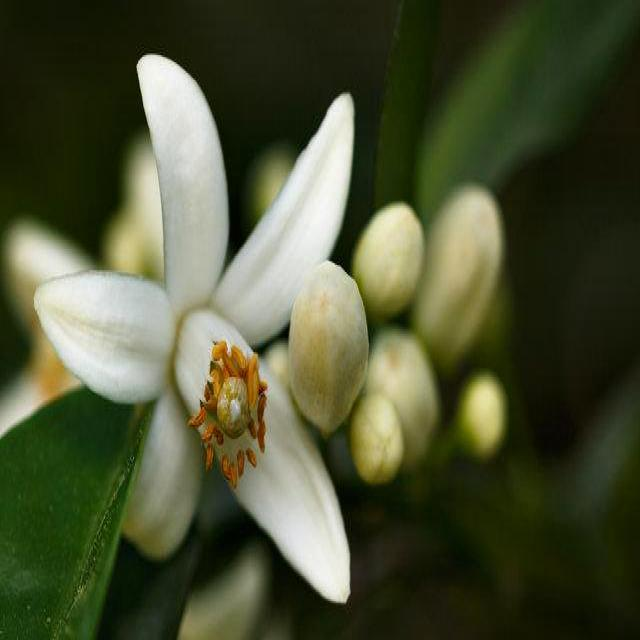Bunga: (31, 46, 362, 601), (288, 261, 368, 441), (353, 201, 420, 316), (353, 396, 400, 489)
